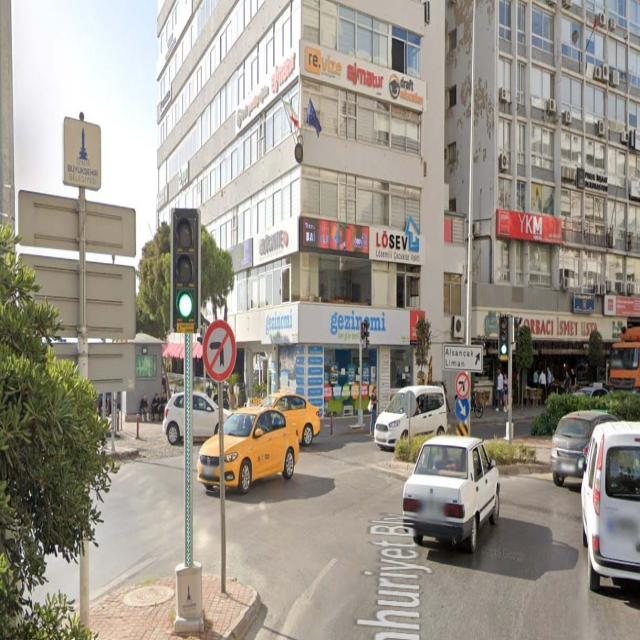soladonulmez: (203, 319, 234, 379), (457, 372, 470, 400)
yesil: (171, 210, 199, 332), (499, 315, 509, 362)
